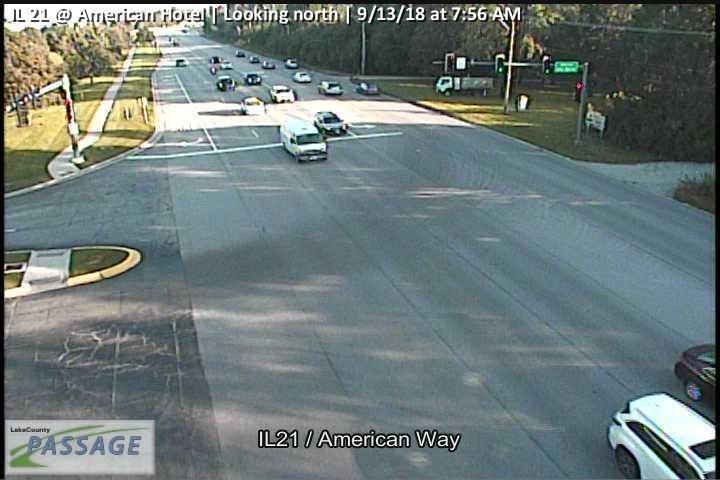SUV: (607, 391, 716, 480), (279, 119, 327, 163)
Sedan: (315, 110, 346, 136), (241, 97, 265, 118), (271, 85, 295, 103), (320, 81, 342, 94), (217, 76, 236, 91), (357, 83, 378, 95), (246, 72, 261, 86), (293, 72, 310, 82)
Truck: (435, 75, 494, 98)
